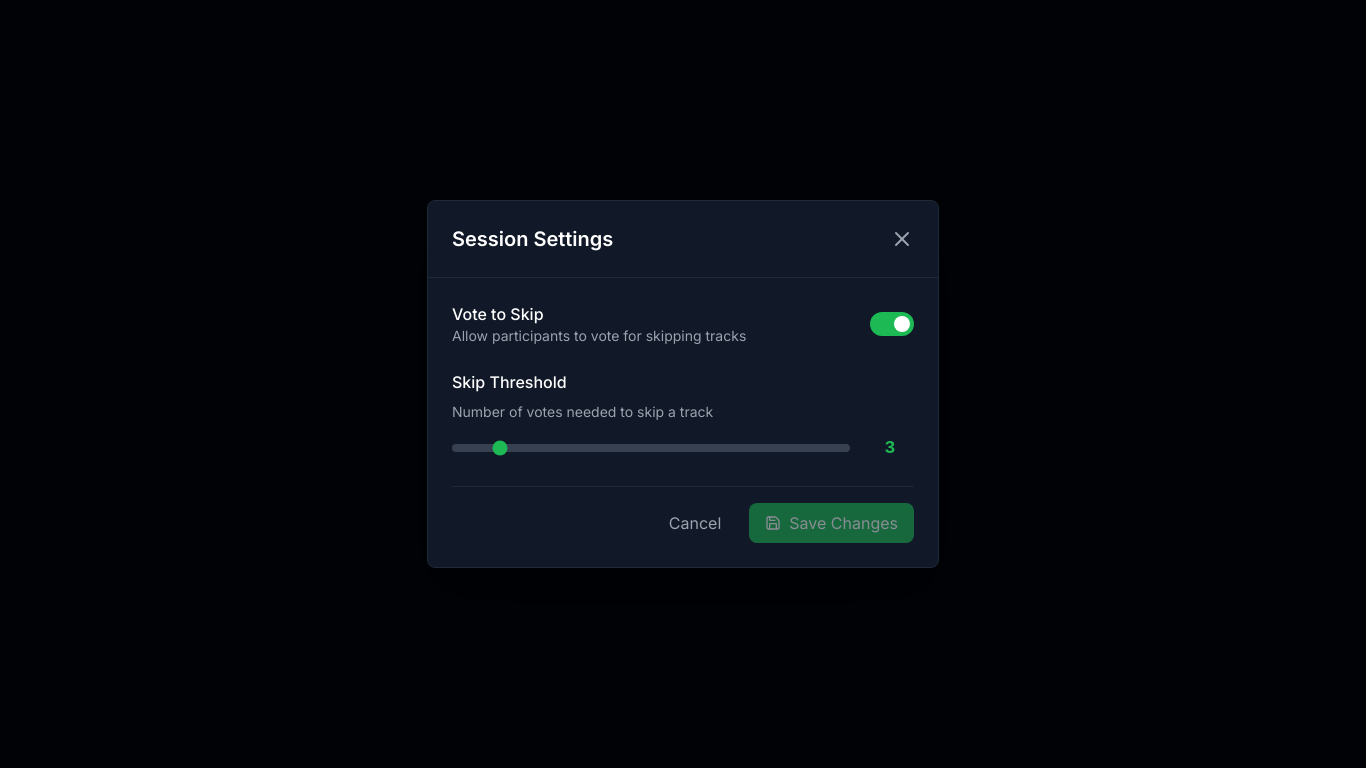
Test case: SessionSettingsModal › Skip Threshold Slider › enables save button when skip threshold is changed
Expected: the button "Save Changes" is disabled, x1=749 y1=503 x2=914 y2=543
Set the slider to "5". click: (540, 448)
box: x1=452 y1=444 x2=850 y2=452
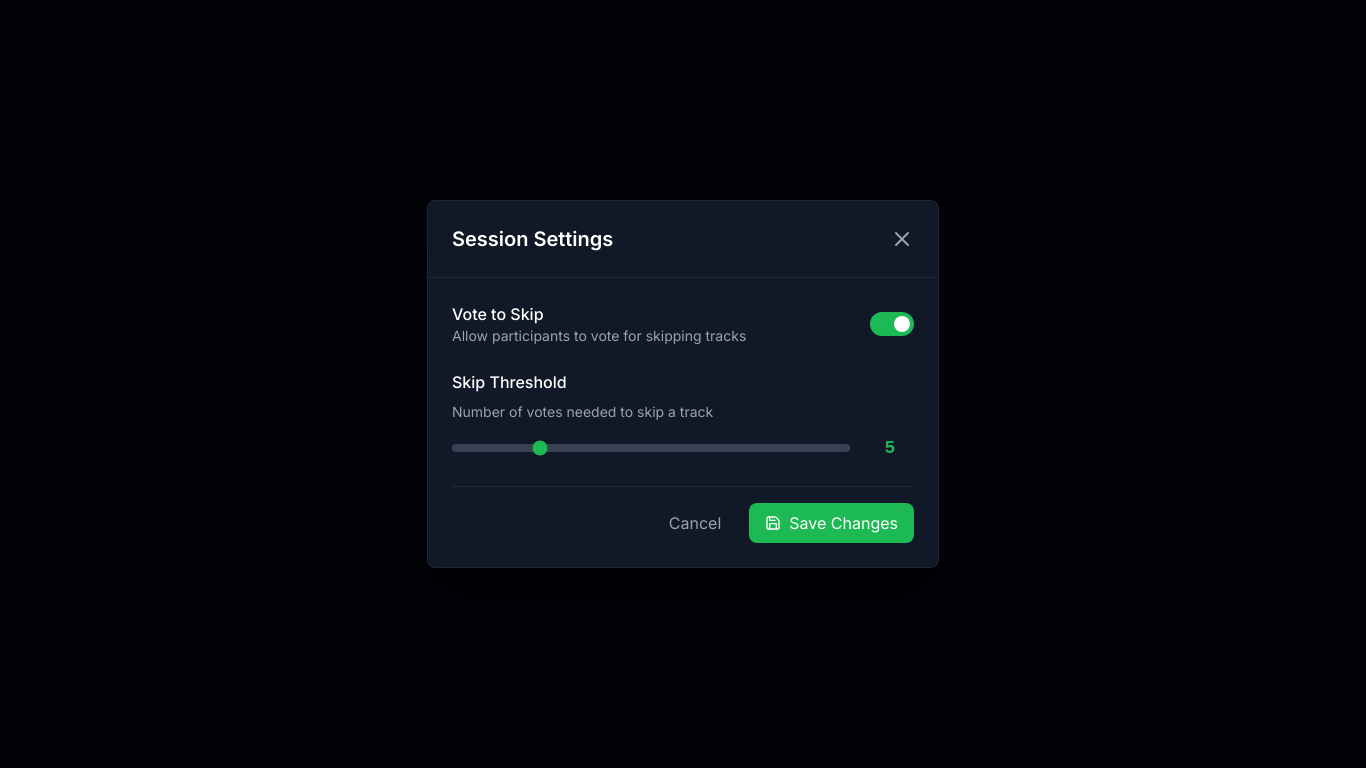
Expected: the button "Save Changes" is enabled, x1=749 y1=503 x2=914 y2=543
